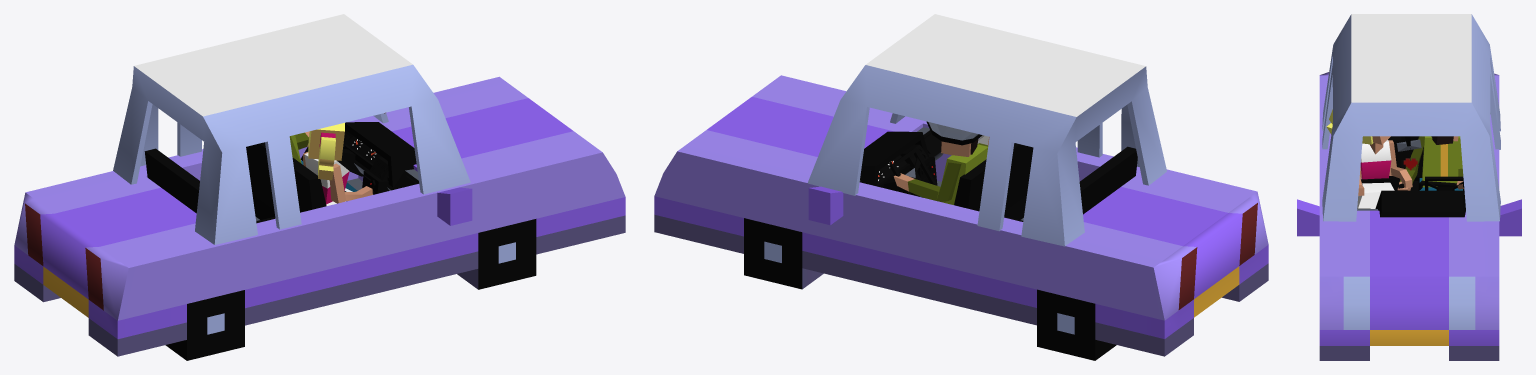
Rendered from car5inside.FBX.
3 renders of one model, left to right at view 1: azimuth 30°, elevation 25°; view 2: azimuth 150°, elevation 25°; view 3: azimuth 270°, elevation 25°, orthographic. The views are drawn at different scales.
Parts seen in each view (by area): view 1: car5inside; view 2: car5inside; view 3: car5inside.
Boxes of the visible parts, x1,y1,x2,y2 form: car5inside: (14,14,625,360); car5inside: (654,14,1268,360); car5inside: (1297,14,1521,360).
Size of the model in its own units: 434 by 190 by 181.
